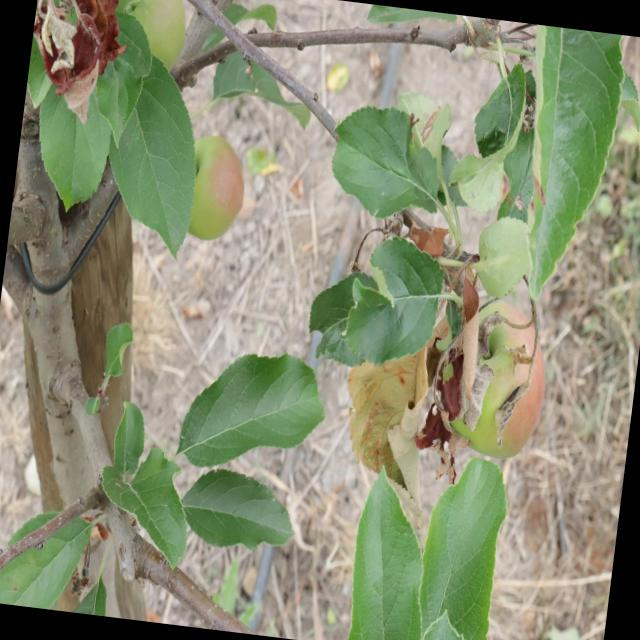-FireBlight-: (27, 0, 140, 131), (396, 208, 498, 348)
